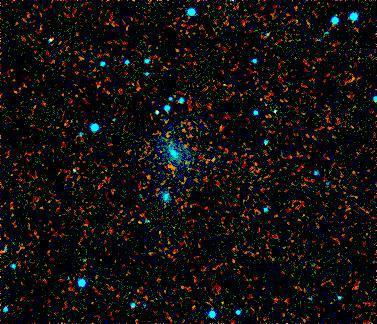star: (132, 164, 162, 194)
